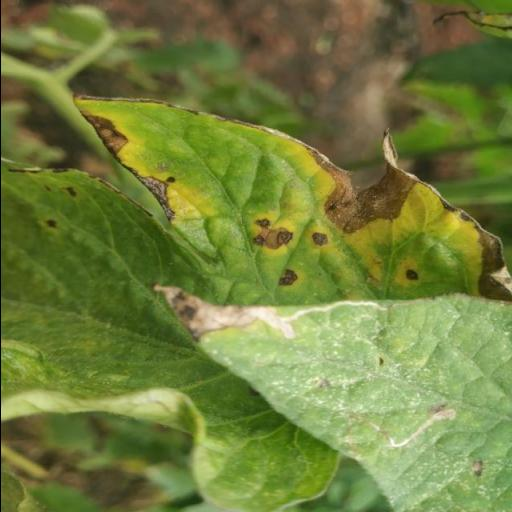disease_tomato: (71, 90, 512, 300)
